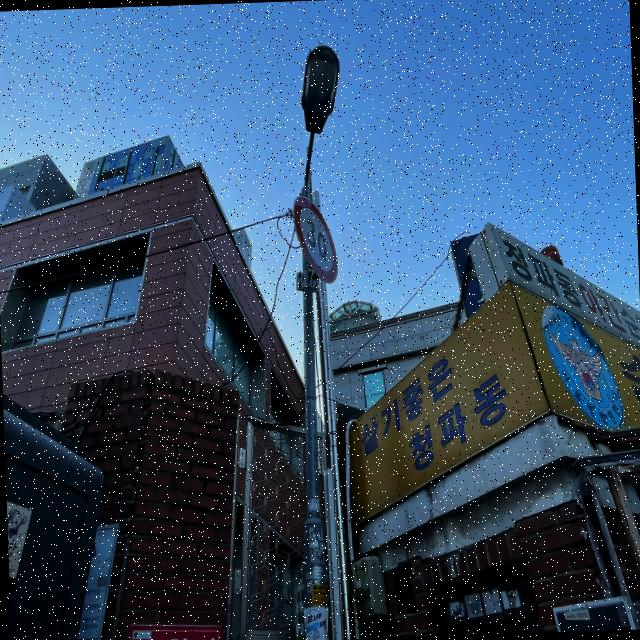Ograniczenie predkosci do 30: (291, 193, 336, 283)
